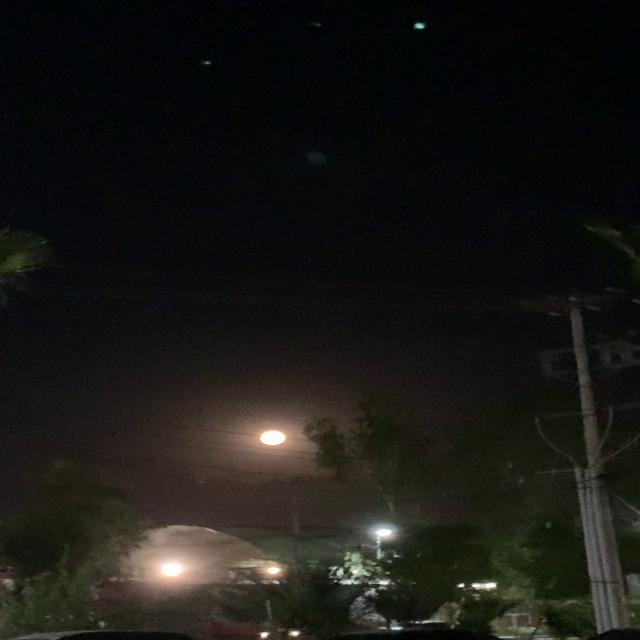moon: (253, 418, 306, 444)
